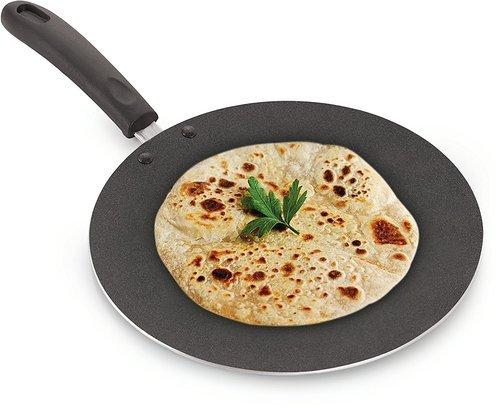roti: (154, 137, 422, 328)
